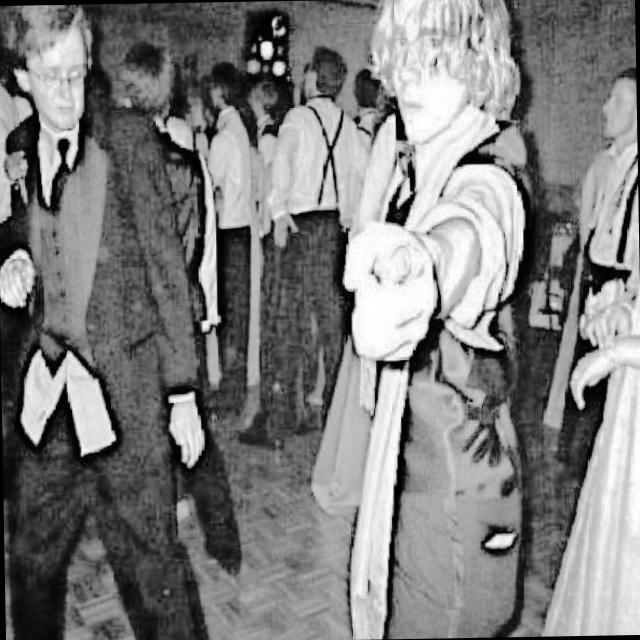Person: (0, 2, 208, 640), (339, 0, 533, 639), (228, 37, 370, 449), (198, 59, 250, 422)
